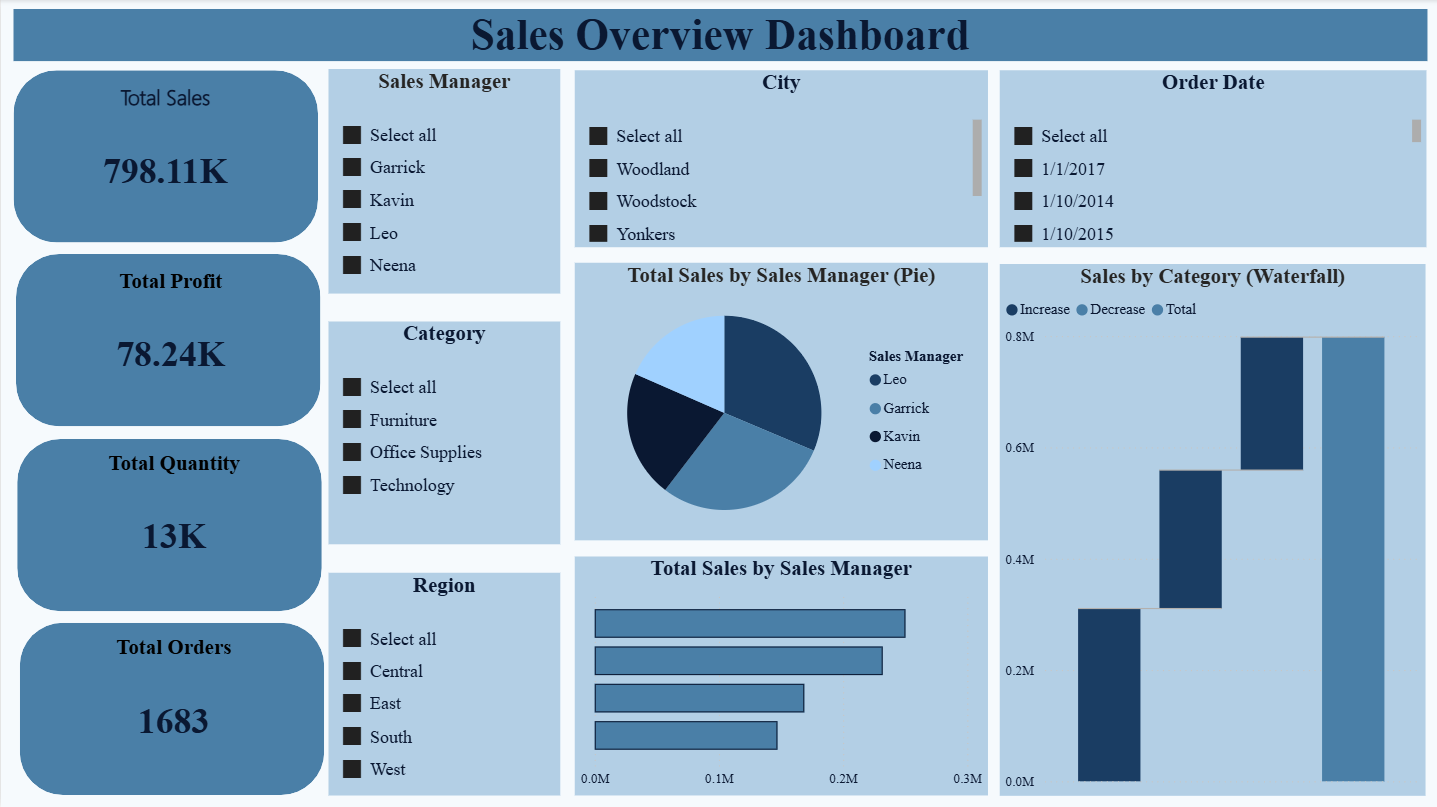

What the dashboard file says about the page in this screenshot:
{"tool":"powerbi","page":{"name":"Sales Overview Dashboard","canvas":[1280,720],"ordinal":0},"visuals":[{"type":"shape","box":[11,63.1,271.2,153.4],"z":0},{"type":"pieChart","title":"Total Sales by Sales Manager (Pie)","fields":{"Y":["Sales.Total Sales"],"Category":["People.Sales Manager"]},"box":[510.5,235.3,367.8,247],"z":1000},{"type":"shape","box":[12.8,227.3,271.2,153.4],"z":2000},{"type":"clusteredBarChart","title":"Total Sales by Sales Manager","fields":{"Category":["People.Sales Manager"],"Y":["Sales.Total Sales"]},"box":[510.5,496.7,367.8,212.7],"z":3000},{"type":"shape","box":[14.6,391.5,271.2,153.4],"z":4000},{"type":"waterfallChart","title":"Sales by Category (Waterfall)","fields":{"Category":["Sales.Category"],"Y":["Sales.Total Sales"]},"box":[889.6,235.6,379.1,473.6],"z":5000},{"type":"shape","box":[16.5,555.7,271.2,153.4],"z":6000},{"type":"slicer","title":"Order Date","fields":{"Values":["Sales.Order Date"]},"box":[889.2,63.1,380.1,157.8],"z":7000},{"type":"card","title":"Total Sales","fields":{"Values":["Sales.Total Sales"]},"box":[26.9,74.2,239.3,130.1],"z":8000},{"type":"slicer","title":"City","fields":{"Values":["Sales.City"]},"box":[510.5,63.1,367.8,157.8],"z":9000},{"type":"card","title":"Total Profit","fields":{"Values":["Sales.Total Profit"]},"box":[33.7,240,235.6,127.6],"z":10000},{"type":"slicer","title":"Region","fields":{"Values":["People.Region"]},"box":[292,510.4,206.1,198.8],"z":11000},{"type":"card","title":"Total Quantity","fields":{"Values":["Sales.Total Quantity"]},"box":[38.6,403.4,230.7,127.6],"z":12000},{"type":"slicer","title":"Category","fields":{"Values":["Sales.Category"]},"box":[292,287.1,206.1,198.8],"z":13000},{"type":"card","title":"Total Orders","fields":{"Values":["Sales.Total Orders"]},"box":[36.7,566.8,234.4,130.1],"z":14000},{"type":"slicer","title":"Sales Manager","fields":{"Values":["People.Sales Manager"]},"box":[292,62.6,206.1,200],"z":15000},{"type":"textbox","title":"Sales Overview Dashboard","box":[11,8.6,1258.9,46.6],"z":16000}]}

Visuals, with their boxes in screenshot pixels (x1, y1, x2, y2), scaled from the page's 1280x720 canvas onto the 1437x807 screenshot:
shape: {"left": 12, "top": 71, "right": 317, "bottom": 243}
"Total Sales by Sales Manager (Pie)" pieChart: {"left": 573, "top": 264, "right": 986, "bottom": 541}
shape: {"left": 14, "top": 255, "right": 319, "bottom": 427}
"Total Sales by Sales Manager" clusteredBarChart: {"left": 573, "top": 557, "right": 986, "bottom": 795}
shape: {"left": 16, "top": 439, "right": 321, "bottom": 611}
"Sales by Category (Waterfall)" waterfallChart: {"left": 999, "top": 264, "right": 1424, "bottom": 795}
shape: {"left": 19, "top": 623, "right": 323, "bottom": 795}
"Order Date" slicer: {"left": 998, "top": 71, "right": 1425, "bottom": 248}
"Total Sales" card: {"left": 30, "top": 83, "right": 299, "bottom": 229}
"City" slicer: {"left": 573, "top": 71, "right": 986, "bottom": 248}
"Total Profit" card: {"left": 38, "top": 269, "right": 302, "bottom": 412}
"Region" slicer: {"left": 328, "top": 572, "right": 559, "bottom": 795}
"Total Quantity" card: {"left": 43, "top": 452, "right": 302, "bottom": 595}
"Category" slicer: {"left": 328, "top": 322, "right": 559, "bottom": 545}
"Total Orders" card: {"left": 41, "top": 635, "right": 304, "bottom": 781}
"Sales Manager" slicer: {"left": 328, "top": 70, "right": 559, "bottom": 294}
"Sales Overview Dashboard" textbox: {"left": 12, "top": 10, "right": 1426, "bottom": 62}
